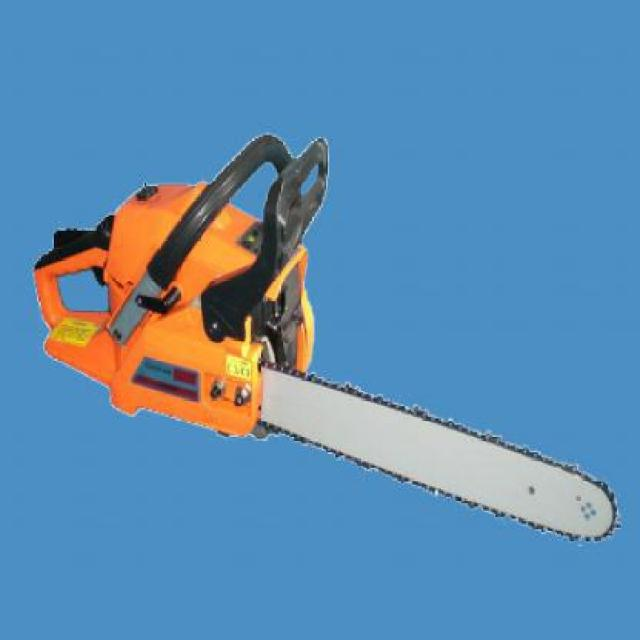Chainsaw: (28, 128, 622, 543)
